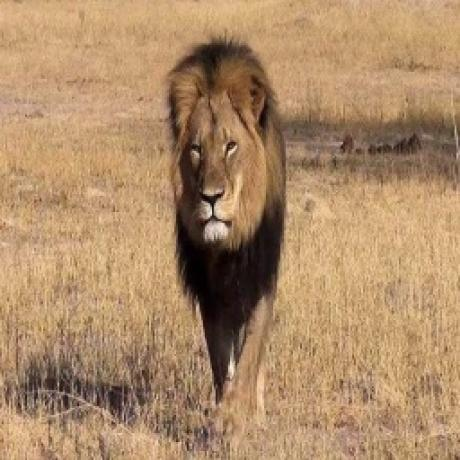Lion: (166, 36, 292, 418)
